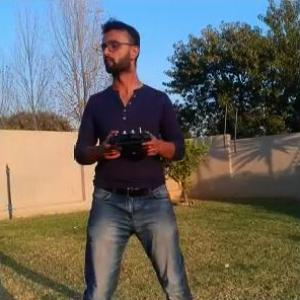follow: (65, 12, 195, 299)
